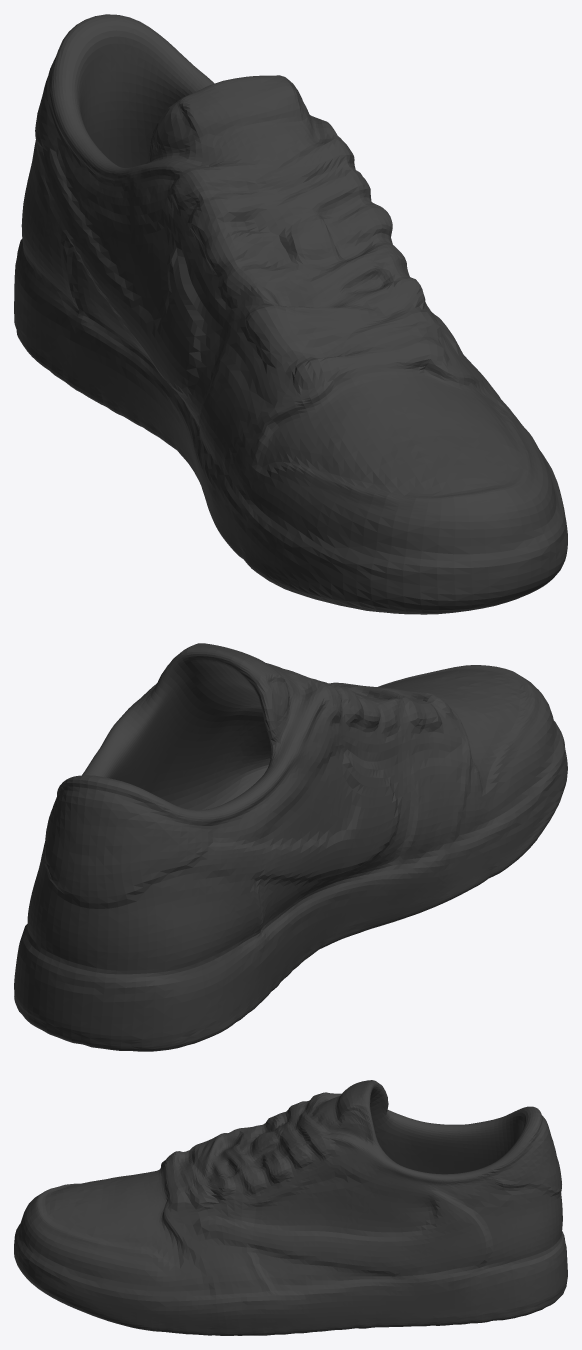
The model's file is golf-shoe-right.glb.
The picture shows the model from 3 angles, top to bottom: view 1: azimuth 30°, elevation 25°; view 2: azimuth 150°, elevation 25°; view 3: azimuth 270°, elevation 25°; orthographic projection. The views are drawn at different scales.
Visible parts, largest first — view 1: world; view 2: world; view 3: world.
Part boxes in pixels (x1,y1,x2,y2): world: [14, 14, 567, 614]; world: [14, 643, 567, 1051]; world: [14, 1080, 567, 1335].
Size of the model in its own units: 8.72 by 9.06 by 22.17.
1 material, 1 textured.
